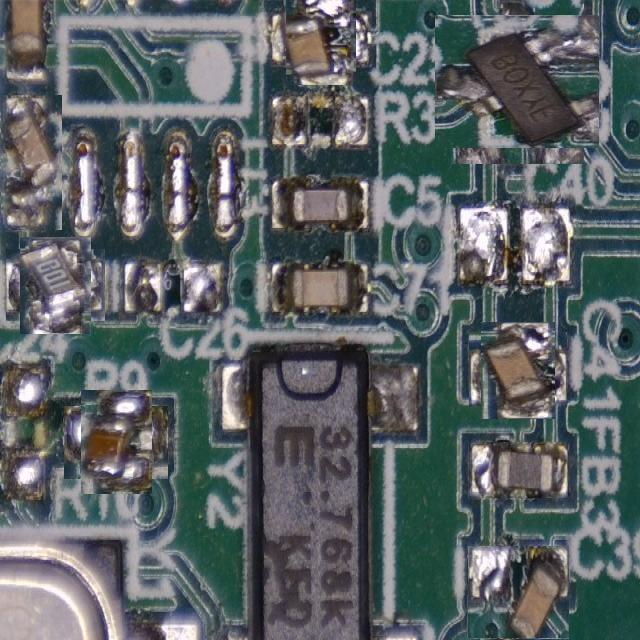Incorrect_installation: (435, 15, 598, 147), (467, 547, 569, 637), (1, 95, 62, 230), (80, 391, 152, 493), (481, 321, 555, 419), (20, 236, 91, 334), (287, 0, 355, 85), (469, 441, 568, 498)
